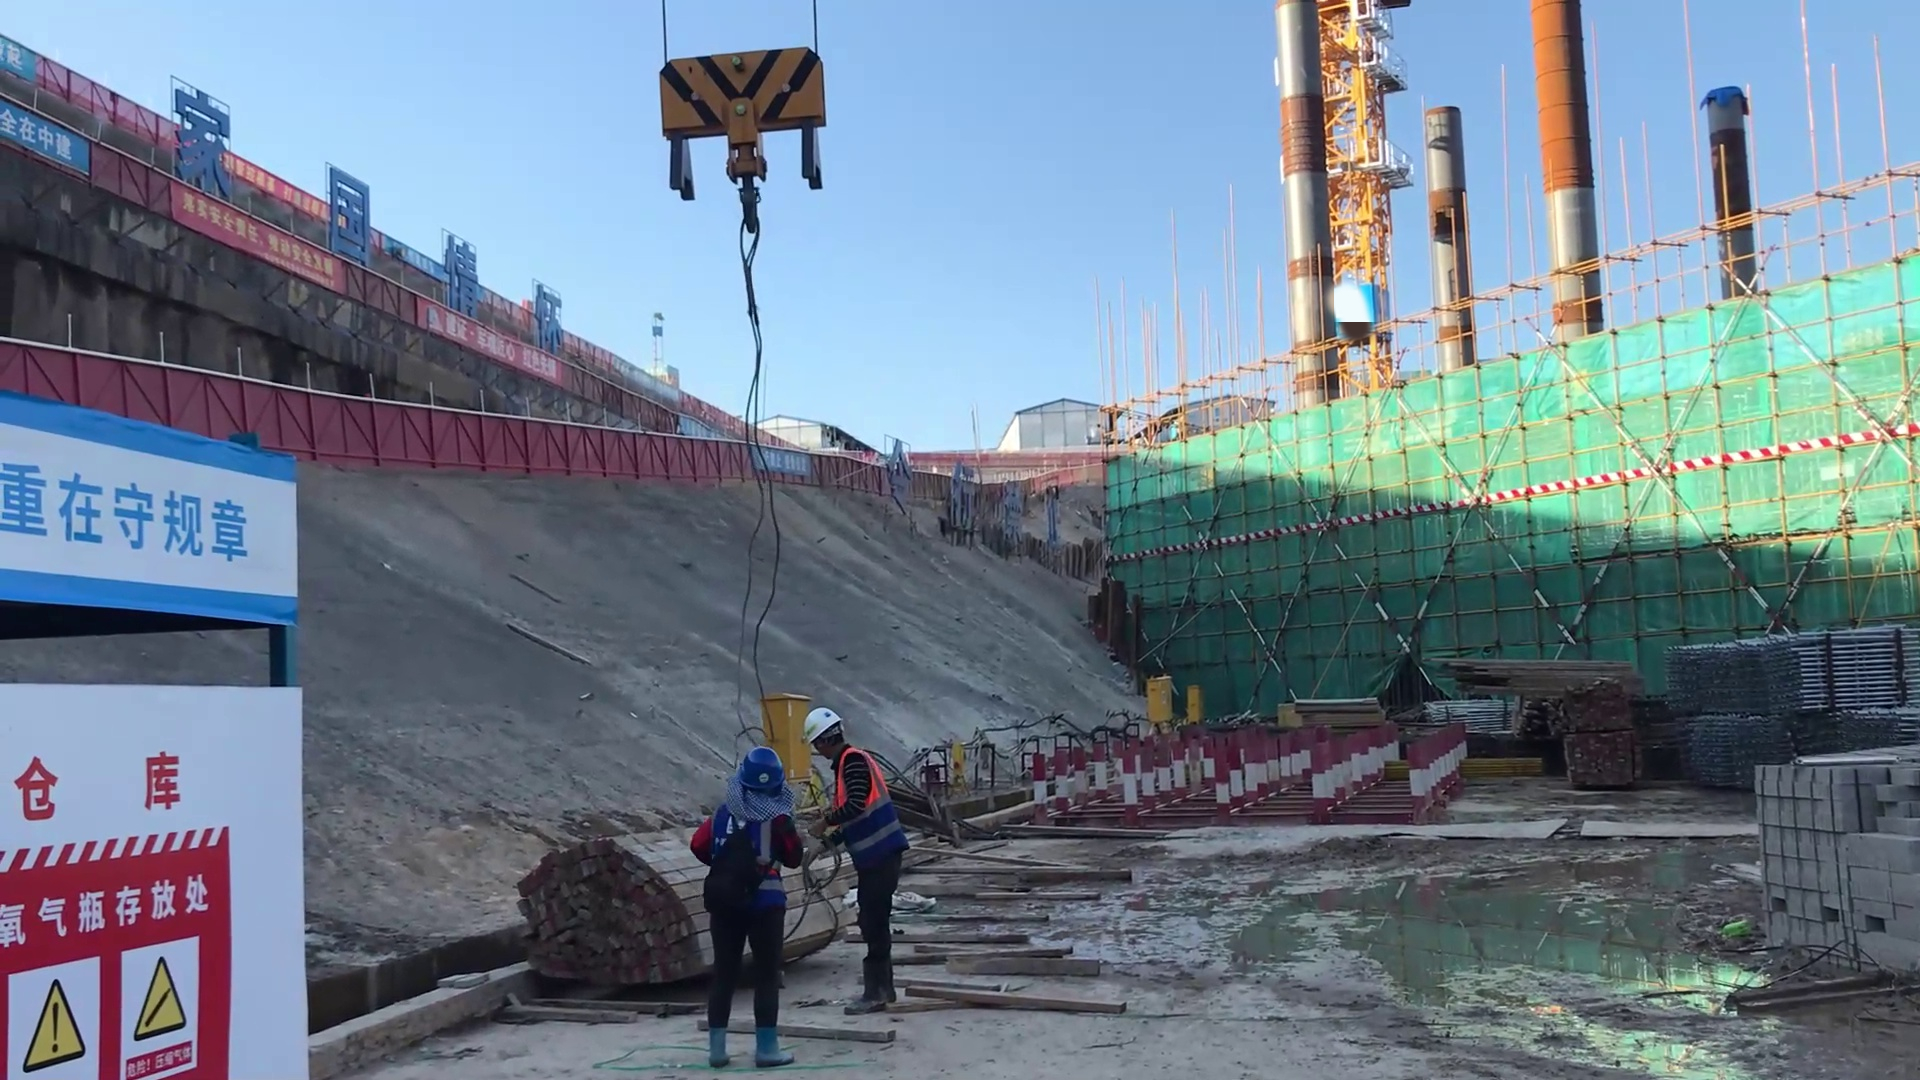brick: (1743, 735, 1920, 988)
ebox: (759, 696, 812, 772), (1145, 670, 1172, 718), (1184, 681, 1204, 718)
fence: (289, 387, 648, 479), (647, 426, 760, 485)
helmet: (732, 752, 777, 794), (806, 709, 846, 750)
hook: (664, 48, 826, 201)
person: (785, 695, 914, 1027), (704, 749, 803, 1080)
scaffold: (1659, 618, 1914, 726)
slogan: (28, 752, 262, 1080), (2, 444, 269, 619), (155, 181, 392, 355)
vest: (821, 748, 883, 800)
wood: (517, 823, 686, 1001), (1445, 644, 1637, 708)
